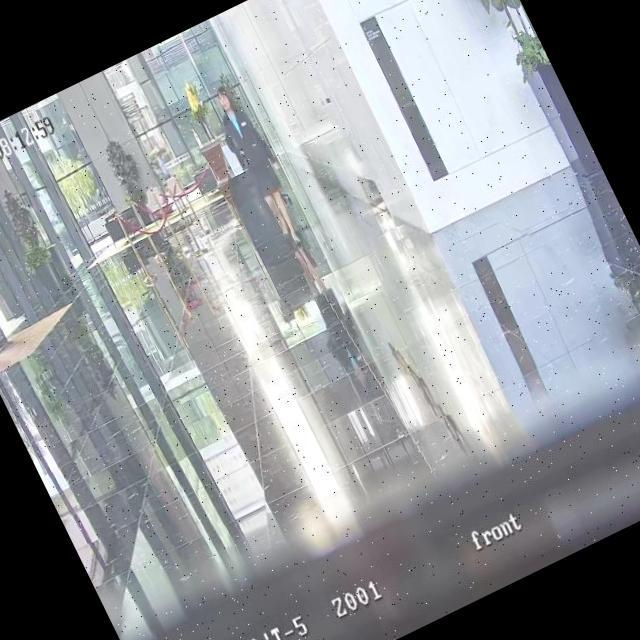person: (202, 77, 315, 256), (154, 150, 172, 180)
